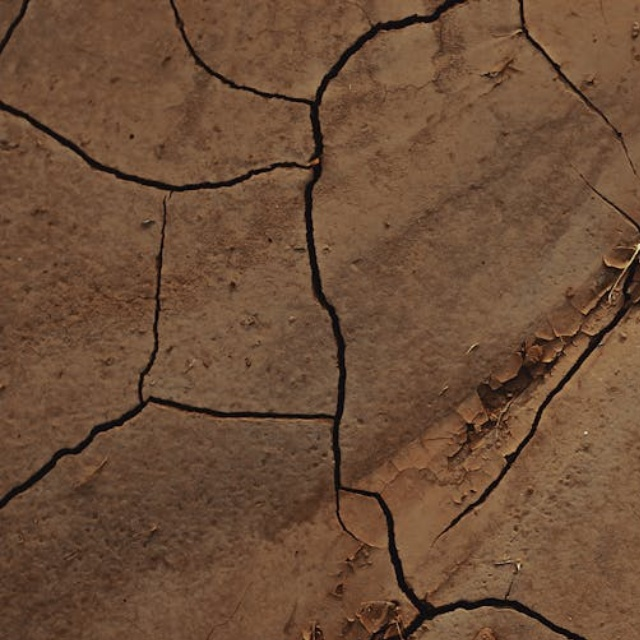细微裂纹: (0, 57, 437, 260), (0, 355, 385, 483)
